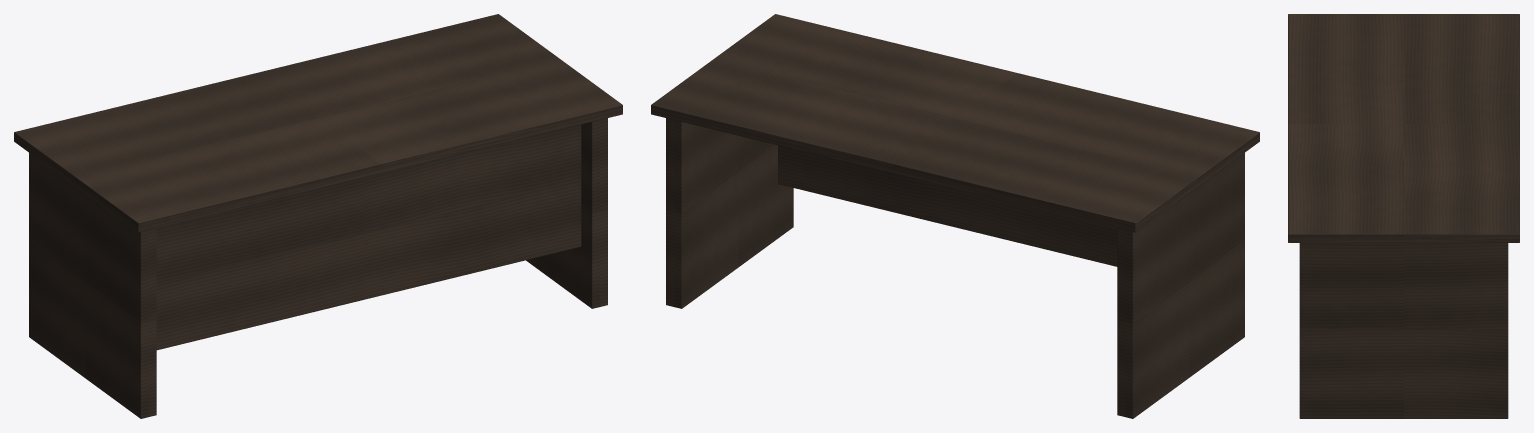
The model's file is FUR_Desk.fbx.
3 renders of one model, left to right at view 1: azimuth 30°, elevation 25°; view 2: azimuth 150°, elevation 25°; view 3: azimuth 270°, elevation 25°, orthographic. The views are drawn at different scales.
Parts seen in each view (by area): view 1: FUR_Desk_Export; view 2: FUR_Desk_Export; view 3: FUR_Desk_Export.
Boxes of the visible parts, bbox=[...] form: FUR_Desk_Export: bbox=[14, 14, 622, 418]; FUR_Desk_Export: bbox=[651, 14, 1259, 418]; FUR_Desk_Export: bbox=[1288, 14, 1519, 418].
Bounding box in the file's own units: 1.8 × 0.72 × 0.8.
1 material, 1 textured.
